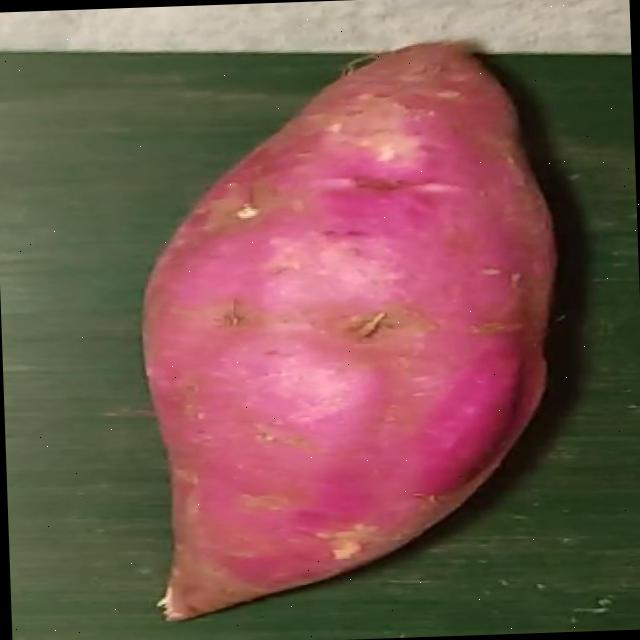Sweet Potato: (139, 37, 557, 620)
